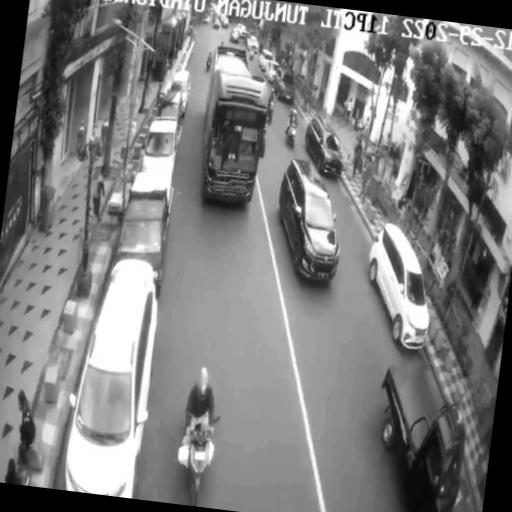bus: (194, 50, 276, 210)
car: (272, 160, 351, 291)
motorcycle: (169, 402, 225, 506)
truck: (364, 351, 479, 512)
